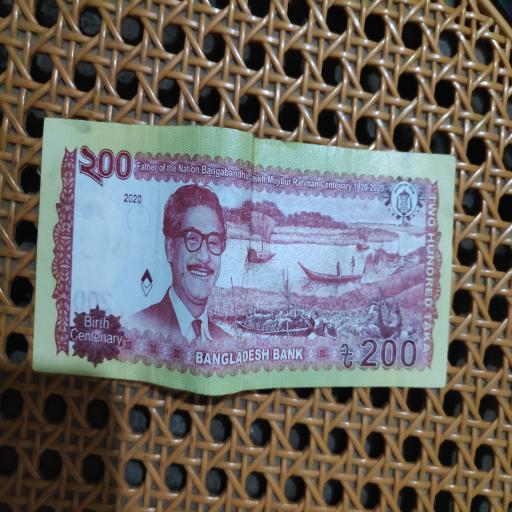200taka: (42, 131, 458, 394)
